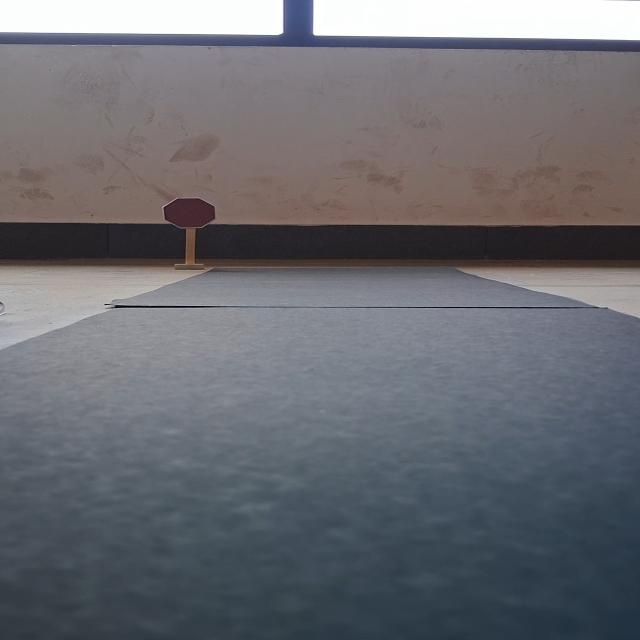Stop: (162, 198, 217, 229)
